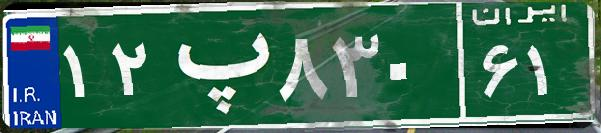0: (385, 28, 445, 110)
1: (57, 26, 110, 107), (525, 38, 570, 115)
2: (110, 28, 158, 105)
3: (330, 28, 385, 110)
6: (475, 38, 525, 113)
8: (273, 28, 330, 110)
پ: (158, 15, 273, 115)
